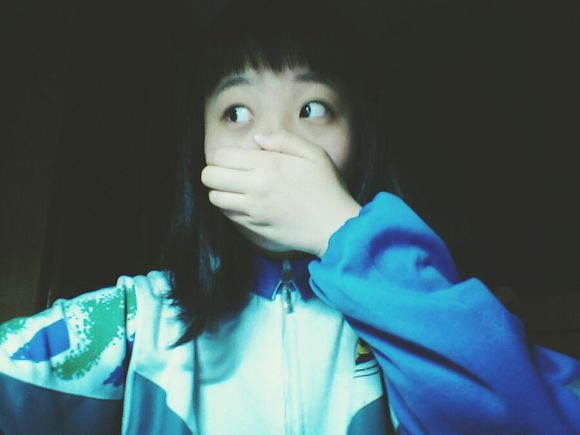face: (206, 53, 352, 239)
